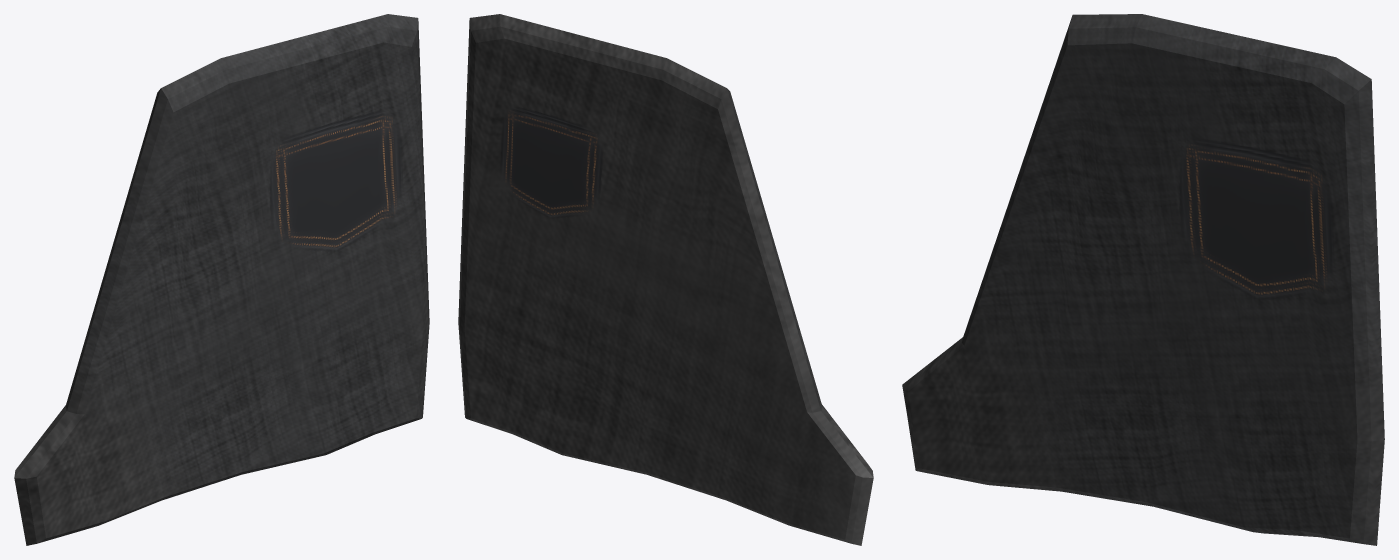
Rendered from pantalon.fbx.
3 views of the same model, side by side, from view 1: azimuth 30°, elevation 25°; view 2: azimuth 150°, elevation 25°; view 3: azimuth 330°, elevation 25° (orthographic). The views are drawn at different scales.
Visible parts, largest first — view 1: pantalon.001; view 2: pantalon.001; view 3: pantalon.001.
Boxes of the visible parts, x1,y1,x2,y2 form: pantalon.001: [14, 14, 429, 545]; pantalon.001: [458, 14, 873, 545]; pantalon.001: [902, 14, 1384, 545].
Bounding box in the file's own units: 33.54 × 34.24 × 2.11.
